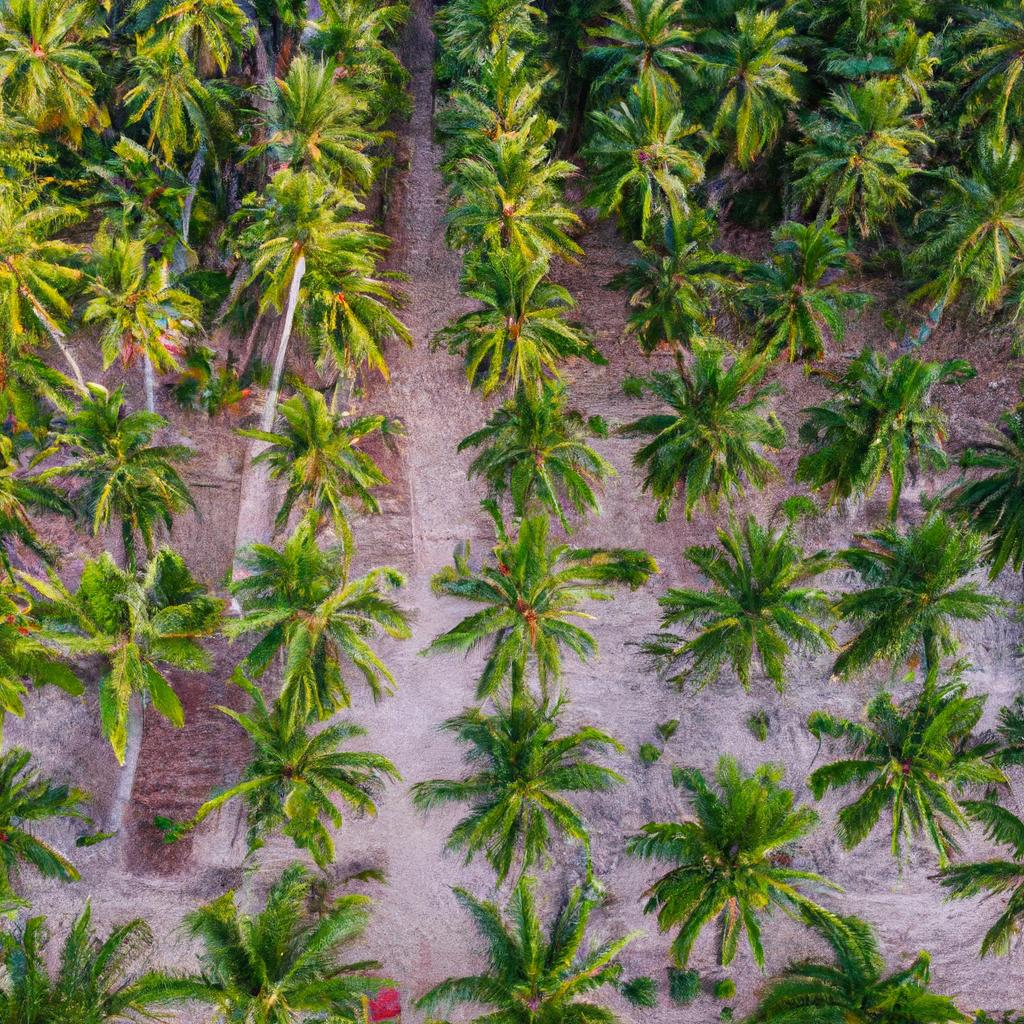coconut_tree: (787, 677, 1020, 888), (632, 750, 847, 975), (417, 505, 670, 691), (209, 345, 428, 545), (816, 491, 1009, 702), (44, 518, 225, 740), (418, 680, 623, 871), (193, 675, 387, 867), (652, 523, 843, 713), (227, 169, 409, 364), (809, 326, 982, 513), (225, 526, 433, 677), (612, 361, 805, 516), (460, 361, 633, 531), (68, 228, 222, 380), (744, 213, 904, 359), (38, 380, 193, 523), (789, 75, 938, 223), (603, 216, 754, 354), (433, 245, 620, 350), (576, 97, 724, 213), (436, 148, 593, 243)
